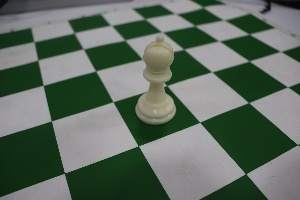white_bishop: (130, 23, 186, 133)
